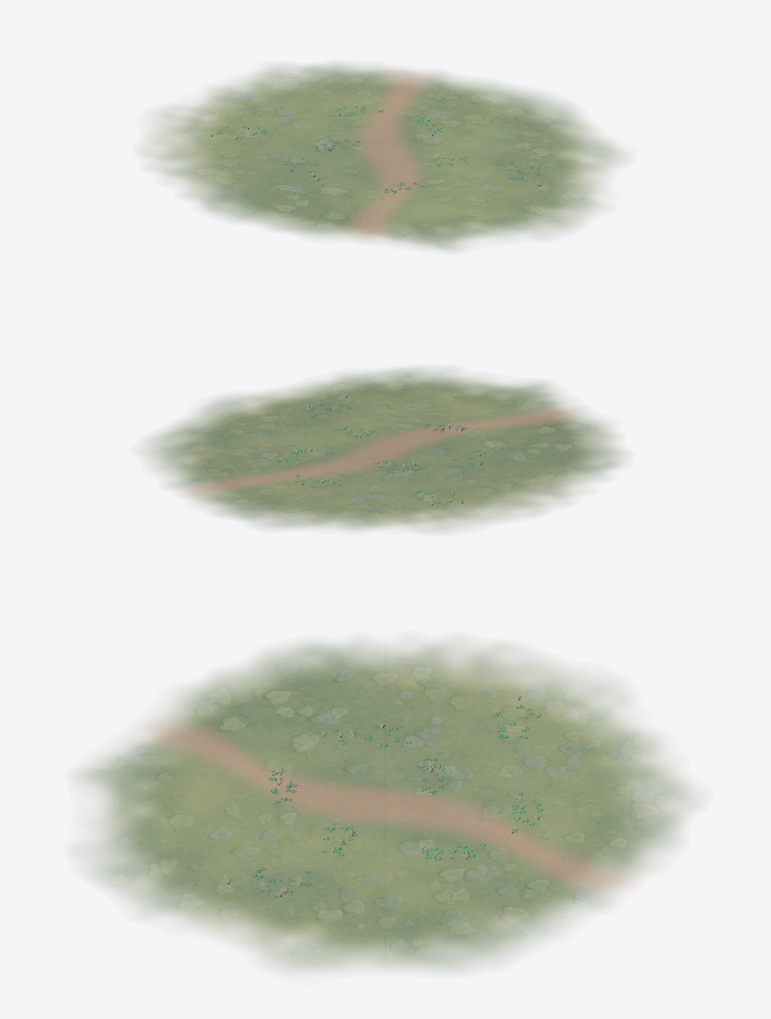
The model's file is understory.glb.
3 renders of one model, top to bottom at view 1: azimuth 30°, elevation 25°; view 2: azimuth 150°, elevation 25°; view 3: azimuth 270°, elevation 25°, orthographic. The views are drawn at different scales.
Visible parts, largest first — view 1: Patchwork earth, Folded moon sorrel, Nacre ribbon grass; view 2: Patchwork earth, Folded moon sorrel, Nacre ribbon grass; view 3: Patchwork earth, Folded moon sorrel, Nacre ribbon grass.
Part boxes in pixels (x1,y1,x2,y2): Patchwork earth: (142,63,624,250); Folded moon sorrel: (217,106,541,193); Nacre ribbon grass: (208,103,544,190); Patchwork earth: (144,368,625,531); Folded moon sorrel: (277,403,496,504); Nacre ribbon grass: (280,393,495,505); Patchwork earth: (77,640,696,971); Folded moon sorrel: (252,704,544,898); Nacre ribbon grass: (220,694,543,897).
Size of the model in its own units: 25 by 2.97 by 25.
Materials: 2 (1 with a texture image).
